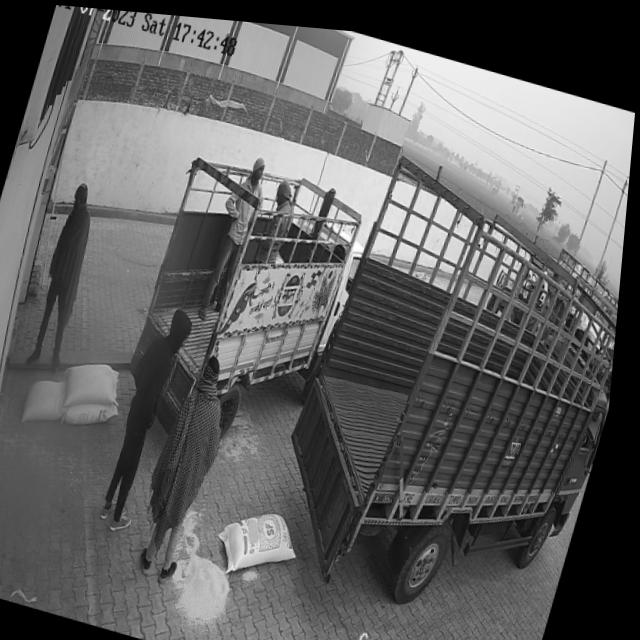sack: (218, 494, 316, 584), (63, 352, 131, 417), (27, 370, 79, 430), (70, 388, 129, 433)
